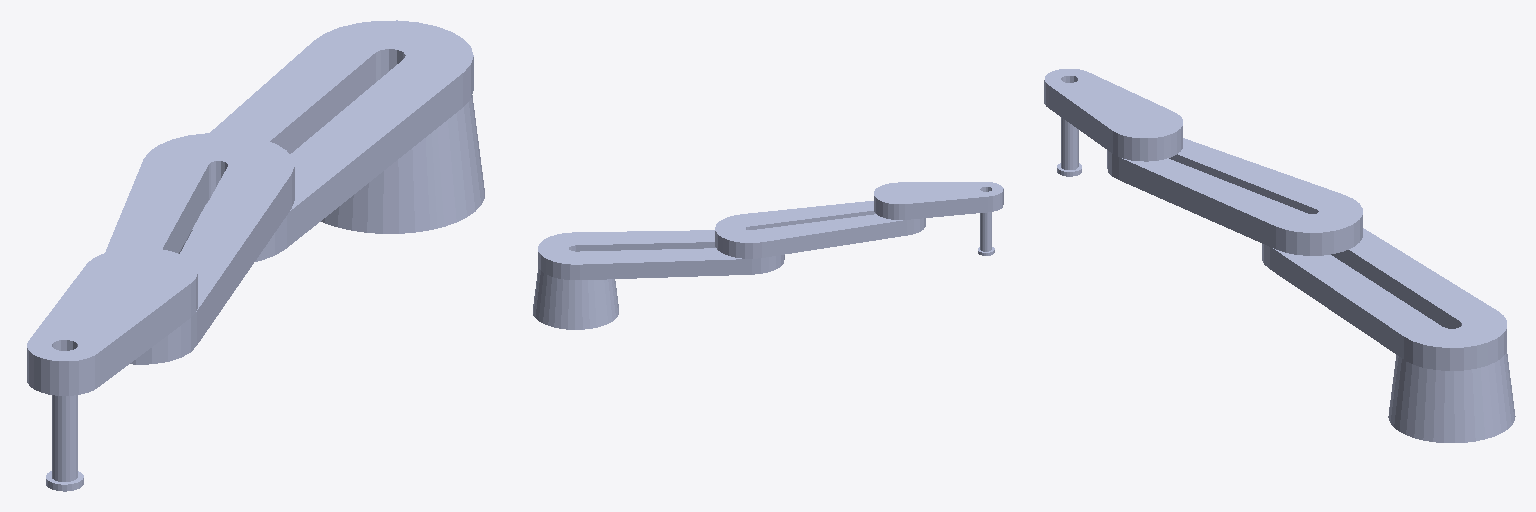
robot.urdf — simpscar:
<robot
  name="simpscar">
  <link
    name="base_link">
    <inertial>
      <origin
        xyz="2.14527011418202 0.142473394521465 1.93638329184614"
        rpy="0 0 0" />
      <mass
        value="51.0301046625672" />
      <inertia
        ixx="1.07638508028542"
        ixy="-3.44197043204807E-33"
        ixz="-8.1647703329057E-34"
        iyy="1.39194175034633"
        iyz="3.5042528661299E-17"
        izz="1.07638508028542" />
    </inertial>
    <visual>
      <origin
        xyz="0 0 0"
        rpy="0 0 0" />
      <geometry>
        <mesh
          filename="package://simpscar/meshes/base_link.STL" />
      </geometry>
      <material
        name="">
        <color
          rgba="0.792156862745098 0.819607843137255 0.933333333333333 1" />
      </material>
    </visual>
    <collision>
      <origin
        xyz="0 0 0"
        rpy="0 0 0" />
      <geometry>
        <mesh
          filename="package://simpscar/meshes/base_link.STL" />
      </geometry>
    </collision>
  </link>
  <link
    name="link1">
    <inertial>
      <origin
        xyz="-0.47507010053154 0.0499999999999999 2.66453525910038E-15"
        rpy="0 0 0" />
      <mass
        value="46.9166231244859" />
      <inertia
        ixx="0.807514951177449"
        ixy="-4.63852325044824E-15"
        ixz="4.04398736719713E-14"
        iyy="8.25848894774734"
        iyz="-5.24577614957422E-16"
        izz="7.52916836844405" />
    </inertial>
    <visual>
      <origin
        xyz="0 0 0"
        rpy="0 0 0" />
      <geometry>
        <mesh
          filename="package://simpscar/meshes/link1.STL" />
      </geometry>
      <material
        name="">
        <color
          rgba="0.792156862745098 0.819607843137255 0.933333333333333 1" />
      </material>
    </visual>
    <collision>
      <origin
        xyz="0 0 0"
        rpy="0 0 0" />
      <geometry>
        <mesh
          filename="package://simpscar/meshes/link1.STL" />
      </geometry>
    </collision>
  </link>
  <joint
    name="joint1"
    type="revolute">
    <origin
      xyz="2.1453 -1.9364 0.3"
      rpy="1.5708 3.3594E-17 0.58074" />
    <parent
      link="base_link" />
    <child
      link="link1" />
    <axis
      xyz="0 1 0" />
    <limit
      lower="-1.57"
      upper="1.57"
      effort="0"
      velocity="0" />
  </joint>
  <link
    name="link2">
    <inertial>
      <origin
        xyz="0.389138149497542 -1.63487001714202E-11 0.049999999999869"
        rpy="0 0 0" />
      <mass
        value="36.5491195610772" />
      <inertia
        ixx="0.441205835958547"
        ixy="1.58939958416759E-10"
        ixz="8.32234711463816E-13"
        iyy="4.42305513062327"
        iyz="-9.66208464007407E-14"
        izz="4.80334576731353" />
    </inertial>
    <visual>
      <origin
        xyz="0 0 0"
        rpy="0 0 0" />
      <geometry>
        <mesh
          filename="package://simpscar/meshes/link2.STL" />
      </geometry>
      <material
        name="">
        <color
          rgba="0.792156862745098 0.819607843137255 0.933333333333333 1" />
      </material>
    </visual>
    <collision>
      <origin
        xyz="0 0 0"
        rpy="0 0 0" />
      <geometry>
        <mesh
          filename="package://simpscar/meshes/link2.STL" />
      </geometry>
    </collision>
  </link>
  <joint
    name="joint2"
    type="revolute">
    <origin
      xyz="-1 0.1 0"
      rpy="1.5708 -0.23814 -3.1416" />
    <parent
      link="link1" />
    <child
      link="link2" />
    <axis
      xyz="0 0 1" />
    <limit
      lower="-1.57"
      upper="1.57"
      effort="0"
      velocity="0" />
  </joint>
  <link
    name="link3">
    <inertial>
      <origin
        xyz="0.194560668226061 -4.44089209850063E-16 0.0499999999999999"
        rpy="0 0 0" />
      <mass
        value="17.2580297498845" />
      <inertia
        ixx="0.106455677168101"
        ixy="2.08166817117217E-17"
        ixz="-8.08221127598958E-18"
        iyy="0.687049698723533"
        iyz="1.04049811742965E-17"
        izz="0.764741992975159" />
    </inertial>
    <visual>
      <origin
        xyz="0 0 0"
        rpy="0 0 0" />
      <geometry>
        <mesh
          filename="package://simpscar/meshes/link3.STL" />
      </geometry>
      <material
        name="">
        <color
          rgba="0.792156862745098 0.819607843137255 0.933333333333333 1" />
      </material>
    </visual>
    <collision>
      <origin
        xyz="0 0 0"
        rpy="0 0 0" />
      <geometry>
        <mesh
          filename="package://simpscar/meshes/link3.STL" />
      </geometry>
    </collision>
  </link>
  <joint
    name="joint3"
    type="prismatic">
    <origin
      xyz="0.9 0 0.1"
      rpy="-9.4434E-28 -9.1118E-28 -0.18231" />
    <parent
      link="link2" />
    <child
      link="link3" />
    <axis
      xyz="0 0 1" />
    <limit
      lower="-1.57"
      upper="1.57"
      effort="0"
      velocity="0" />
  </joint>
  <link
    name="link4">
    <inertial>
      <origin
        xyz="0 4.44089209850063E-16 -0.159083969465649"
        rpy="0 0 0" />
      <mass
        value="1.23464591286079" />
      <inertia
        ixx="0.0105581514268996"
        ixy="0"
        ixz="-3.63989180509497E-19"
        iyy="0.0105581514268996"
        iyz="4.33386920117036E-19"
        izz="0.000856358887460409" />
    </inertial>
    <visual>
      <origin
        xyz="0 0 0"
        rpy="0 0 0" />
      <geometry>
        <mesh
          filename="package://simpscar/meshes/link4.STL" />
      </geometry>
      <material
        name="">
        <color
          rgba="0.792156862745098 0.819607843137255 0.933333333333333 1" />
      </material>
    </visual>
    <collision>
      <origin
        xyz="0 0 0"
        rpy="0 0 0" />
      <geometry>
        <mesh
          filename="package://simpscar/meshes/link4.STL" />
      </geometry>
    </collision>
  </link>
  <joint
    name="joint4"
    type="prismatic">
    <origin
      xyz="0.5 0 0.00034262"
      rpy="-3.6704E-16 -2.8526E-16 0.71154" />
    <parent
      link="link3" />
    <child
      link="link4" />
    <axis
      xyz="0 0 1" />
    <limit
      lower="-0.1"
      upper="0.1"
      effort="0"
      velocity="0" />
  </joint>
</robot>

--- Facts derived from the render (not from the file) ---
Views: 3 orthographic renders of the robot side by side, from view 1: azimuth 30°, elevation 25°; view 2: azimuth 150°, elevation 25°; view 3: azimuth 270°, elevation 25°.
Model simpscar with 5 links and 4 joints (2 revolute, 2 prismatic), rooted at base_link, posed all joints at 0.
Links seen in each view (by area): view 1: link1, link2, link3, base_link, link4; view 2: link1, link2, link3, base_link, link4; view 3: link1, link2, base_link, link3, link4.
Link boxes in pixels (x1=…): link1: x1=179, y1=20, x2=473, y2=261; link2: x1=105, y1=133, x2=294, y2=364; link3: x1=27, y1=248, x2=197, y2=395; base_link: x1=321, y1=95, x2=484, y2=233; link4: x1=46, y1=395, x2=83, y2=491; link1: x1=538, y1=230, x2=784, y2=279; link2: x1=715, y1=201, x2=925, y2=258; link3: x1=874, y1=182, x2=1003, y2=219; base_link: x1=533, y1=267, x2=618, y2=329; link4: x1=978, y1=212, x2=994, y2=255; link1: x1=1262, y1=228, x2=1506, y2=370; link2: x1=1107, y1=138, x2=1362, y2=255; base_link: x1=1388, y1=352, x2=1515, y2=442; link3: x1=1044, y1=69, x2=1182, y2=161; link4: x1=1057, y1=117, x2=1081, y2=176.
Bounding box of the posed robot: 2.2 × 1.85 × 0.6 m (x, y, z).
5 mesh visuals loaded from 5 distinct referenced files (5 binary STL).
